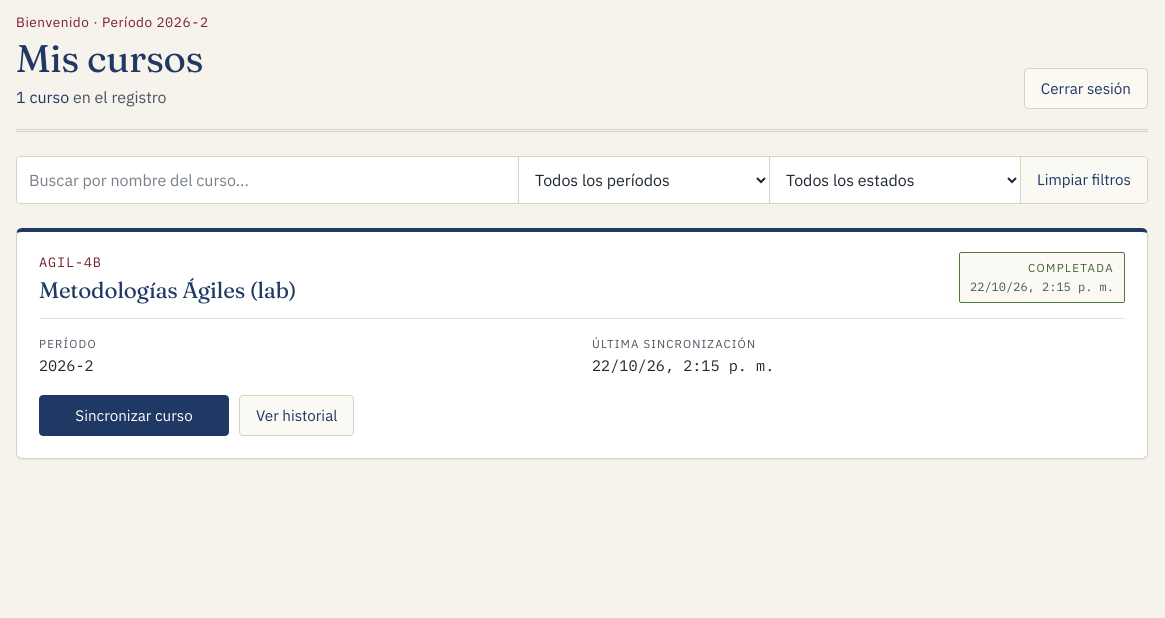
Test: Mis cursos › muestra el historial de sincronizaciones en una tabla
The image size is (1165, 618).
Expected: the text "AGIL-4B" is shown, [39, 252, 102, 270]
Click the button "Ver historial". click: (297, 415)
box: [239, 395, 354, 436]
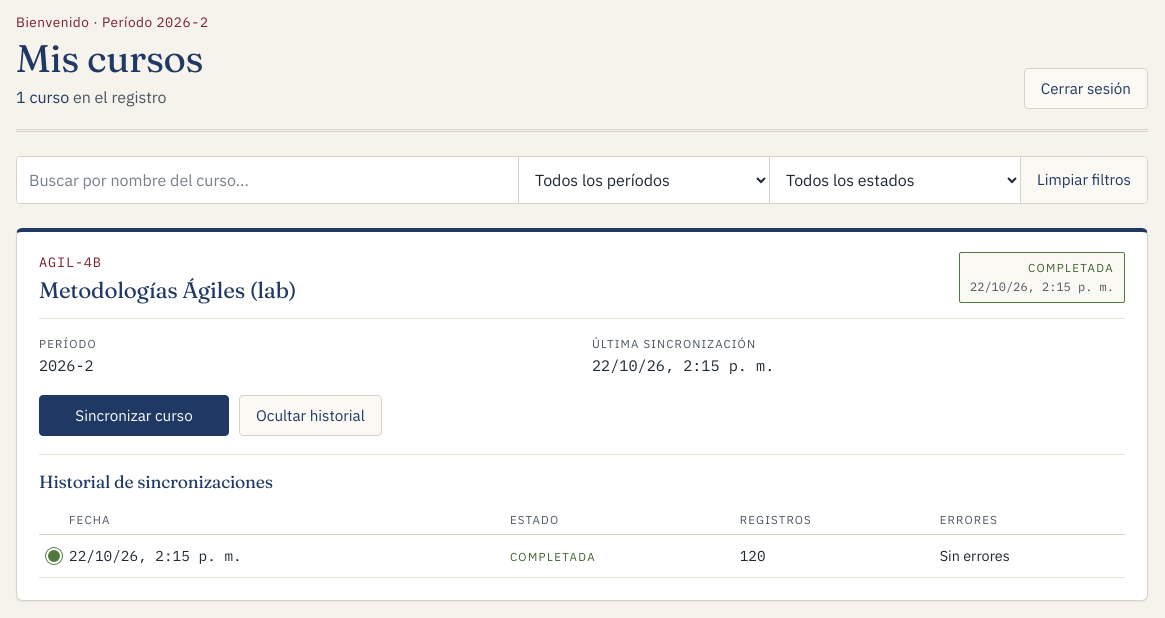
Result: the table is shown at [39, 505, 1125, 578]
Result: the column heading "Fecha" is shown at [39, 505, 500, 535]
Result: the column heading "Registros" is shown at [730, 505, 930, 535]
